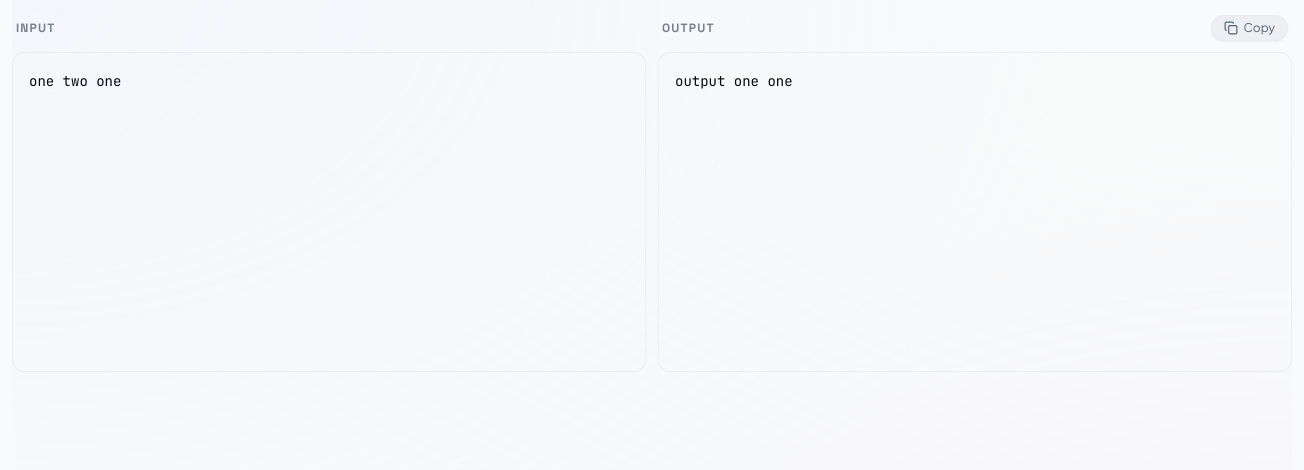
it: ToolIoPanels find and replace › replaces the active match then replaces all through controlled input updates
Step 1. Press f
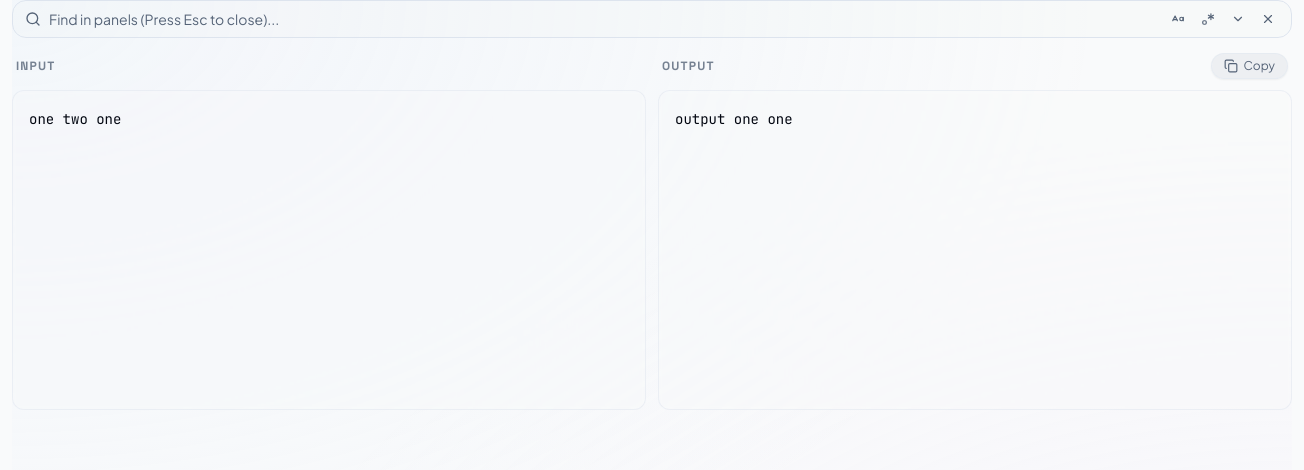
Step 2. Click the button named "Toggle replace" → click(1238, 19), box 1227,8 -> 1249,30
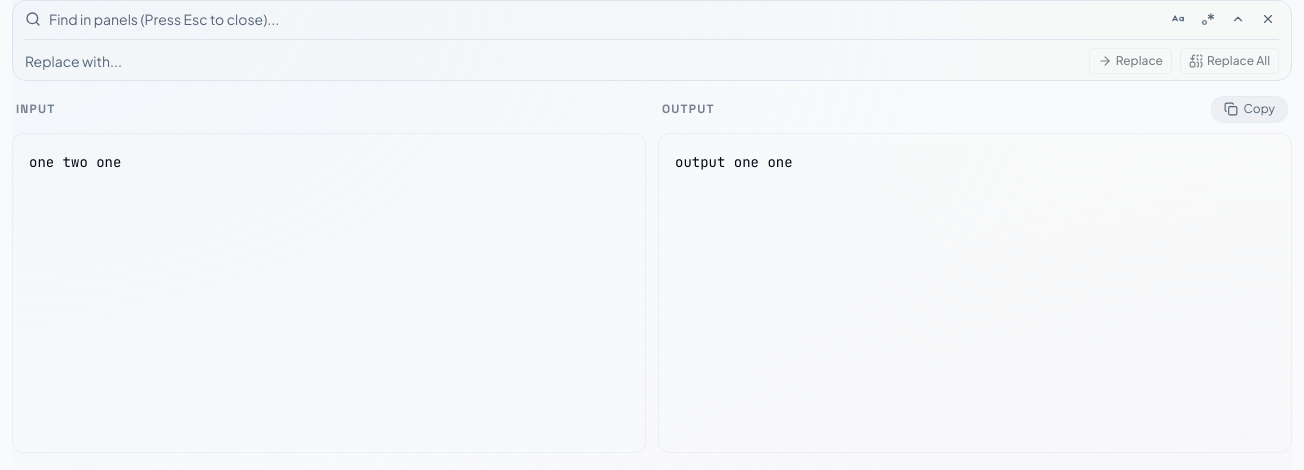
Step 3. Type "one" into the field labelled "Find in panels" → (604, 19), box 49,7 -> 1159,31
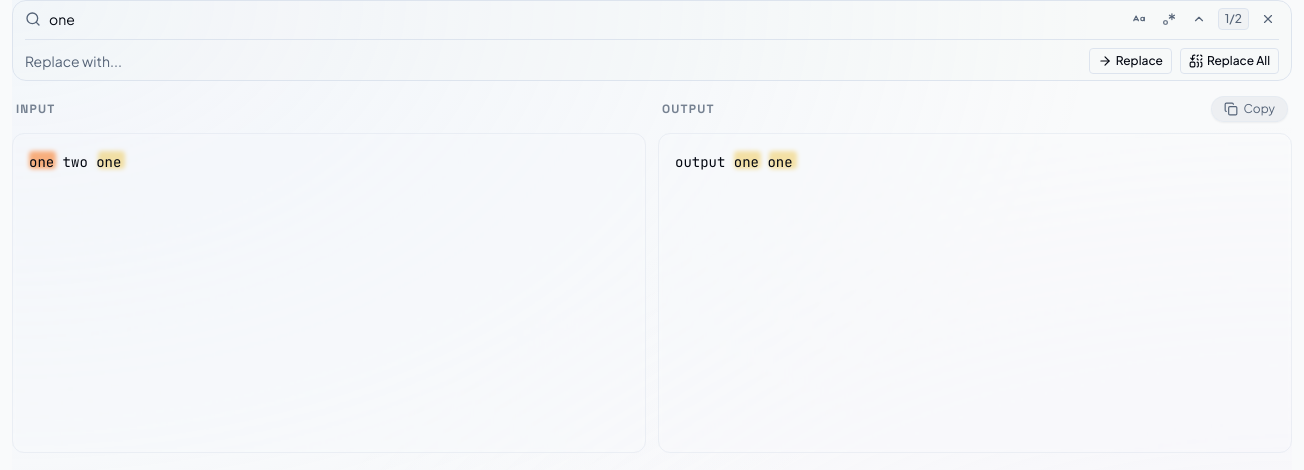
Step 4. Type "ONE" into the field labelled "Replace with" → (553, 61), box 25,49 -> 1081,73
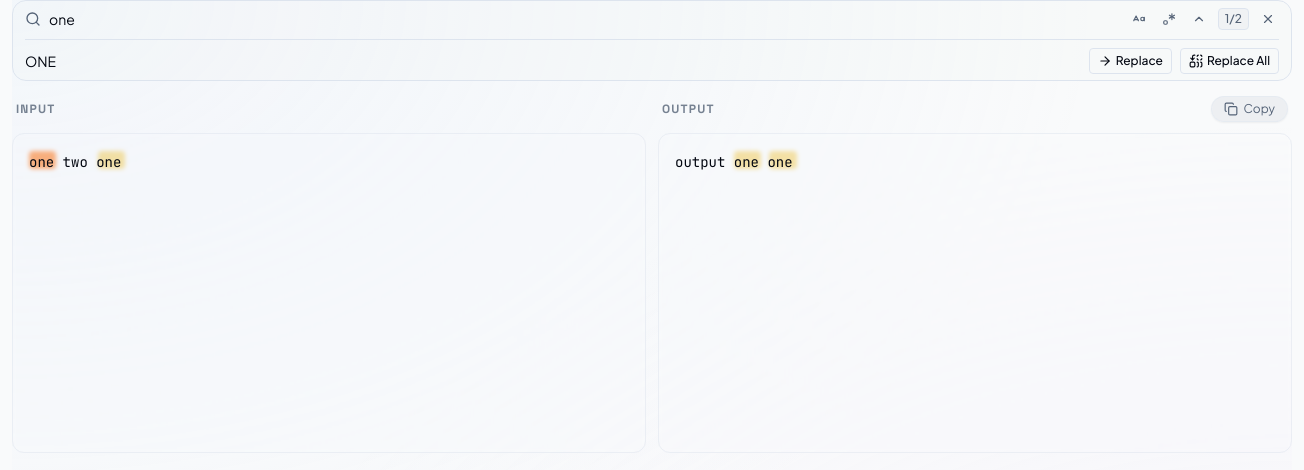
Step 5. Click the button "Replace" → click(1130, 61), box 1089,48 -> 1172,74
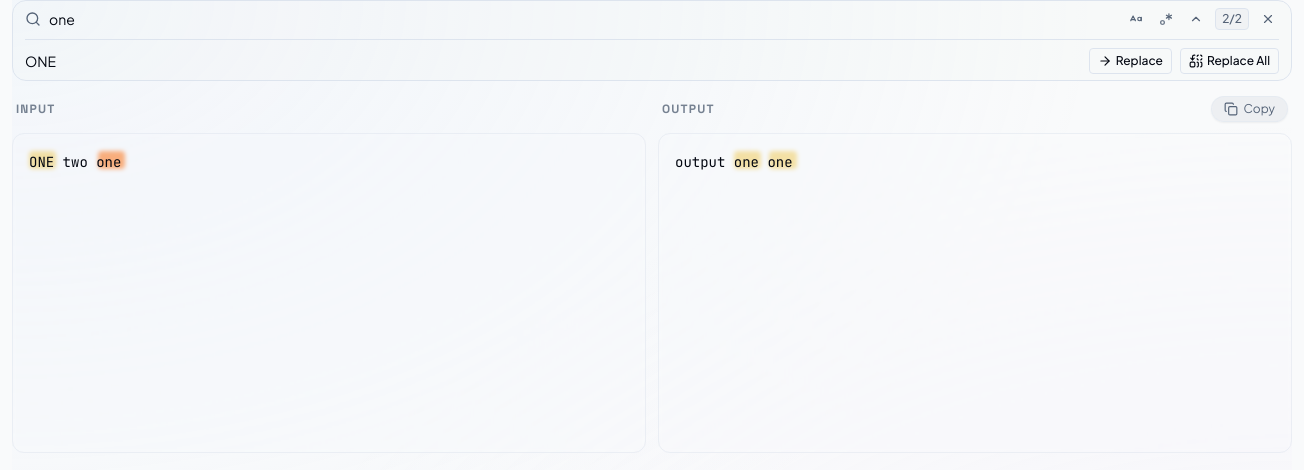
Expected: the text box showing "ONE two one" in the row of "two" is shown, 12,133 -> 646,453
Expected: the text "2/2" is shown, 1215,8 -> 1249,30
Step 6. Click the button "Replace All" → click(1230, 61), box 1180,48 -> 1279,74
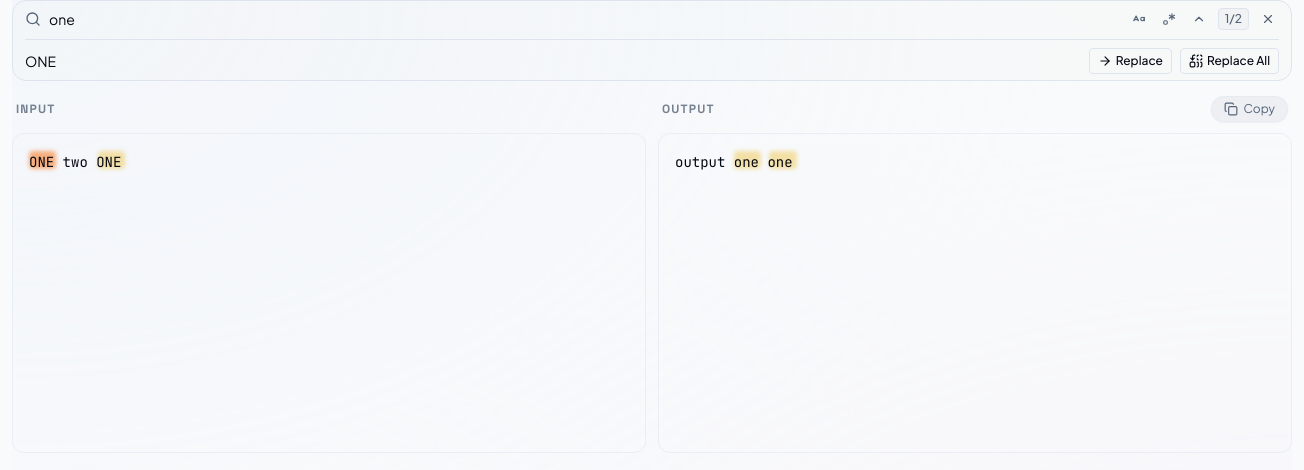
Expected: the text box showing "ONE two ONE" in the row of "two" is shown, 12,133 -> 646,453
Expected: the text "1/2" is shown, 1218,8 -> 1249,30
